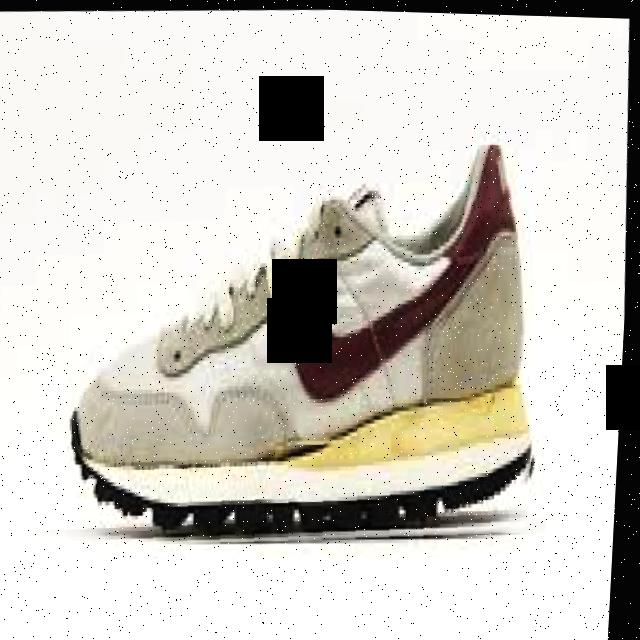shoe: (62, 130, 553, 558)
